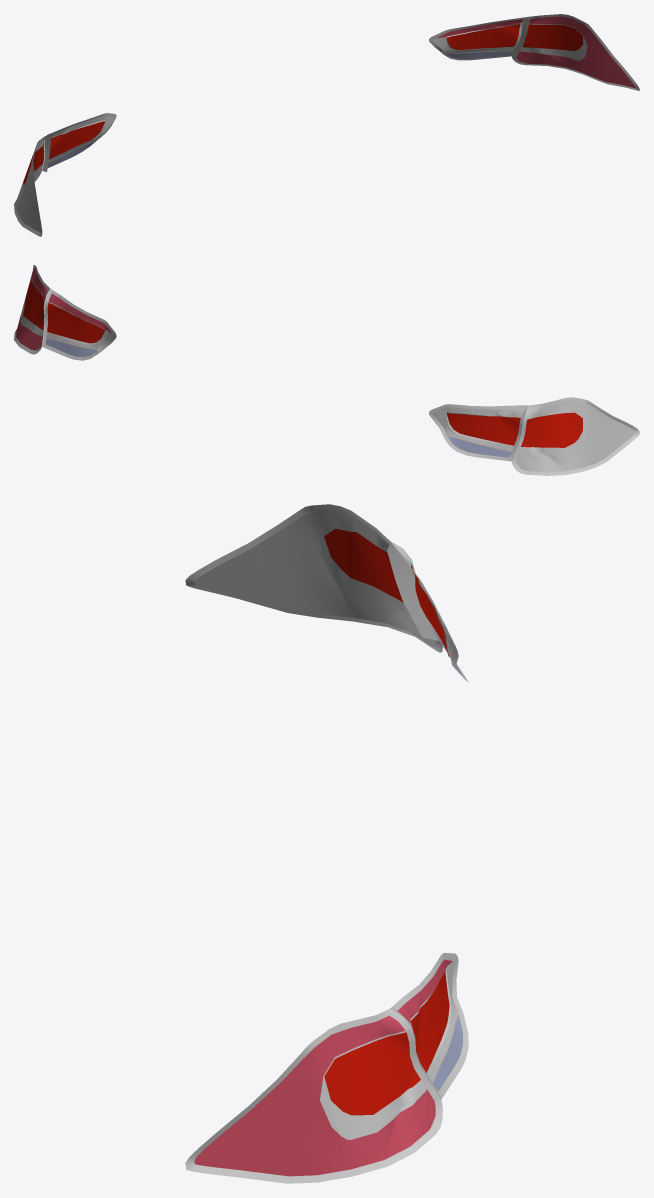
File: etk800_taillights_gparts.dae
3 views of the same model, one above another, from view 1: azimuth 30°, elevation 25°; view 2: azimuth 150°, elevation 25°; view 3: azimuth 270°, elevation 25° (orthographic). The views are drawn at different scales.
Visible parts, largest first — view 1: etk800_taillight_L_aft, etk800_tailgatelight_L_aft, etk800_tailgatelight_R_aft, etk800_taillight_R_aft; view 2: etk800_taillight_R_aft, etk800_tailgatelight_R_aft, etk800_tailgatelight_L_aft, etk800_taillight_L_aft; view 3: etk800_taillight_L_aft, etk800_taillight_R_aft, etk800_tailgatelight_L_aft, etk800_tailgatelight_R_aft.
Part boxes in pixels (x1=…): etk800_taillight_L_aft: x1=512, y1=14, x2=639, y2=90; etk800_tailgatelight_L_aft: x1=429, y1=17, x2=529, y2=60; etk800_tailgatelight_R_aft: x1=42, y1=113, x2=116, y2=172; etk800_taillight_R_aft: x1=14, y1=134, x2=49, y2=236; etk800_taillight_R_aft: x1=511, y1=397, x2=639, y2=475; etk800_tailgatelight_R_aft: x1=429, y1=404, x2=528, y2=461; etk800_tailgatelight_L_aft: x1=42, y1=289, x2=116, y2=360; etk800_taillight_L_aft: x1=14, y1=265, x2=50, y2=354; etk800_taillight_L_aft: x1=185, y1=1008, x2=442, y2=1183; etk800_taillight_R_aft: x1=185, y1=504, x2=442, y2=652; etk800_tailgatelight_L_aft: x1=391, y1=953, x2=468, y2=1098; etk800_tailgatelight_R_aft: x1=387, y1=542, x2=468, y2=682.
Bounding box in the file's own units: 1.65 × 0.3387 × 0.1783.
